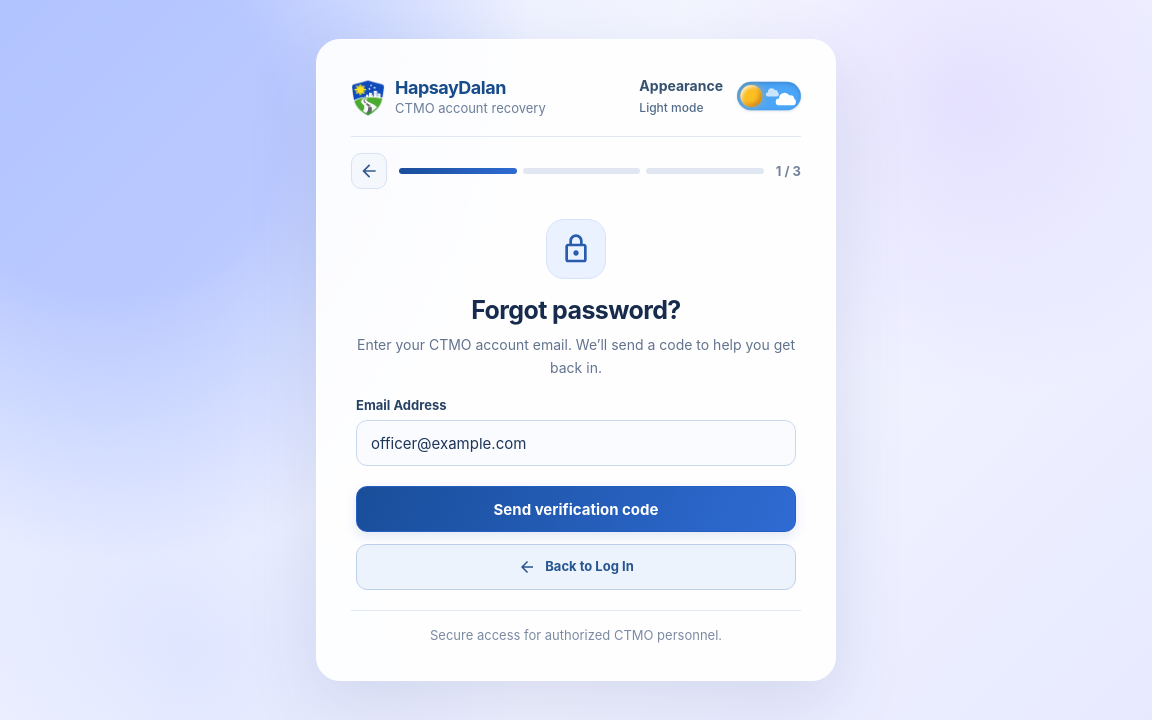
wrong code stays on verification and can be corrected
Click the button "Send verification code": coordinates (576, 509) [356,486,796,532]
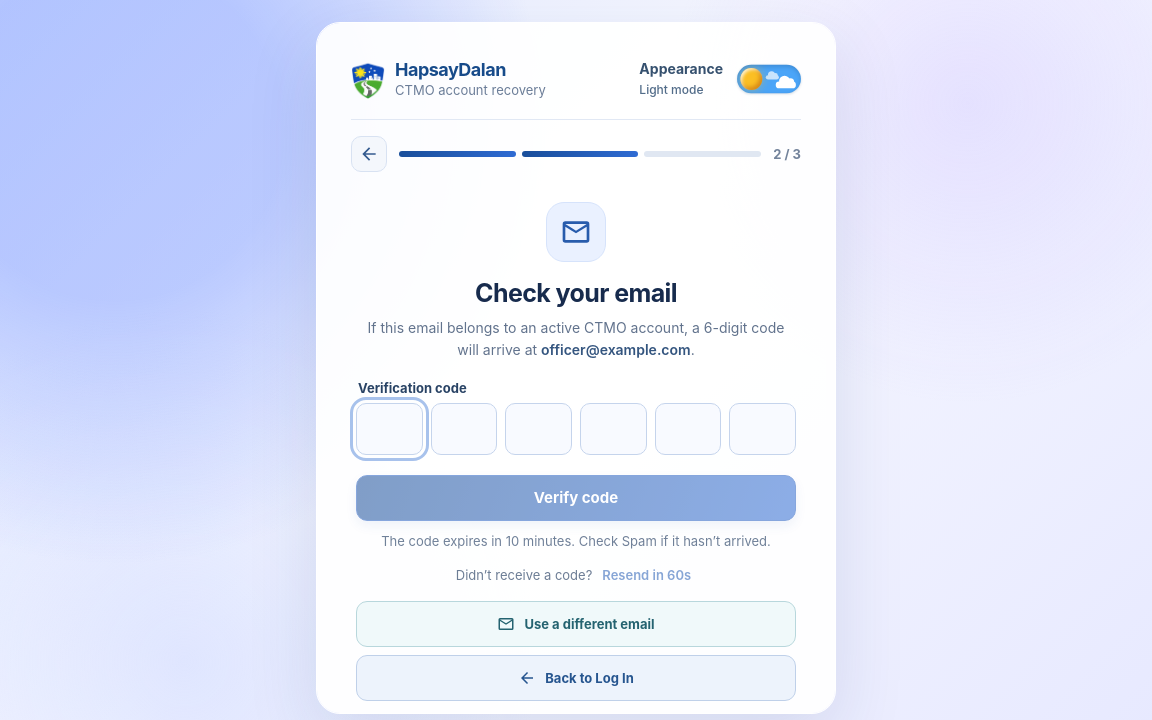
expect the heading "Check your email" is shown: met, box [475,278,677,308]
In the field named "Digit 1 of 6": coordinates (389, 429) [356,403,423,455], type "123456"
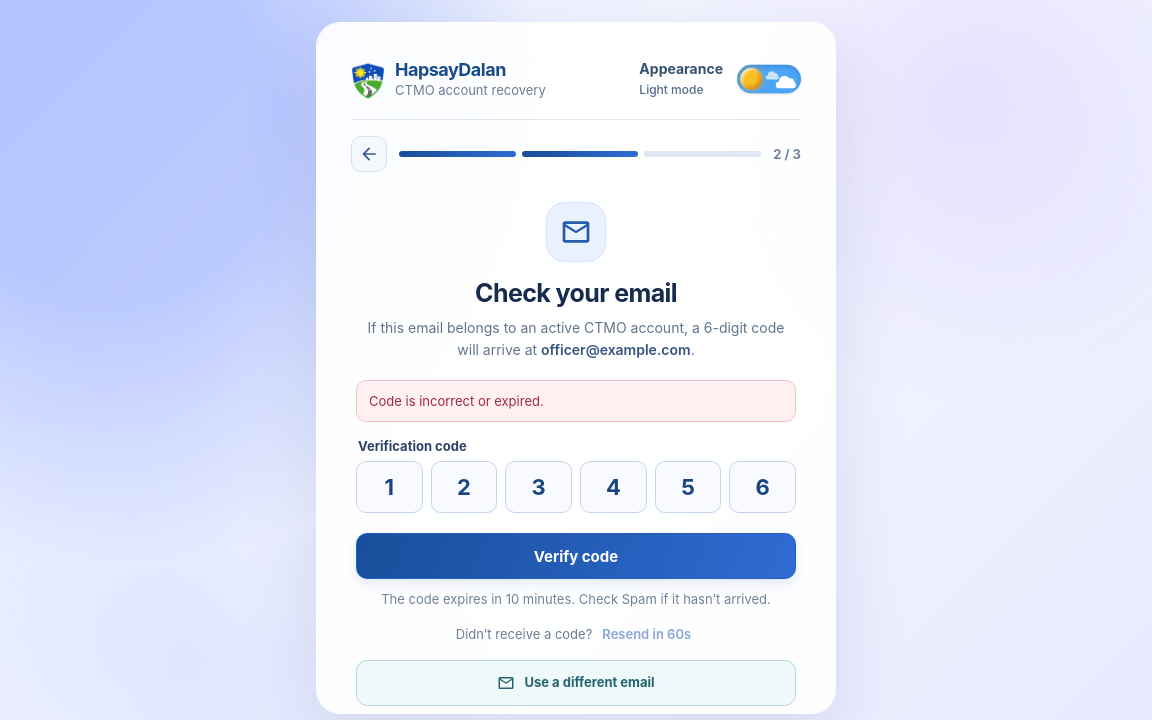
expect the button "Resend in 60s" is disabled: met, box [597,612,696,656]
expect the message reads "Code is incorrect or expired.": met, box [369,393,544,409]
Click the button "Use a different email": coordinates (576, 683) [356,660,796,706]
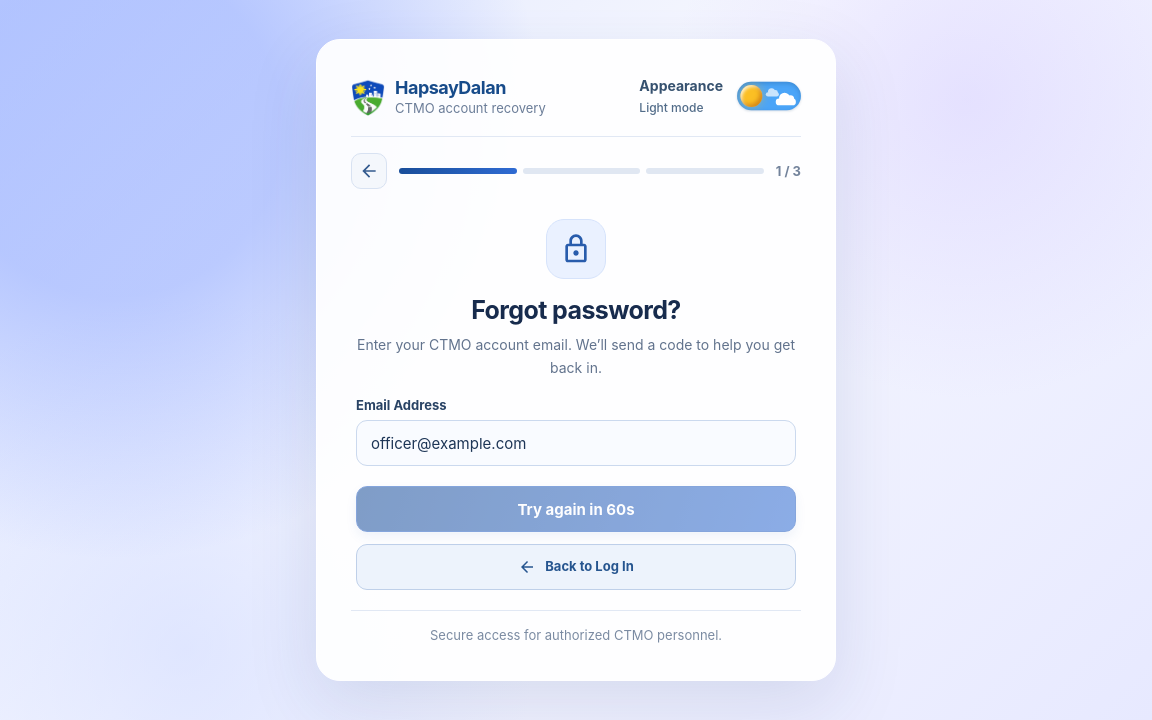
expect the heading "Forgot password?" is shown: met, box [471,295,681,325]
